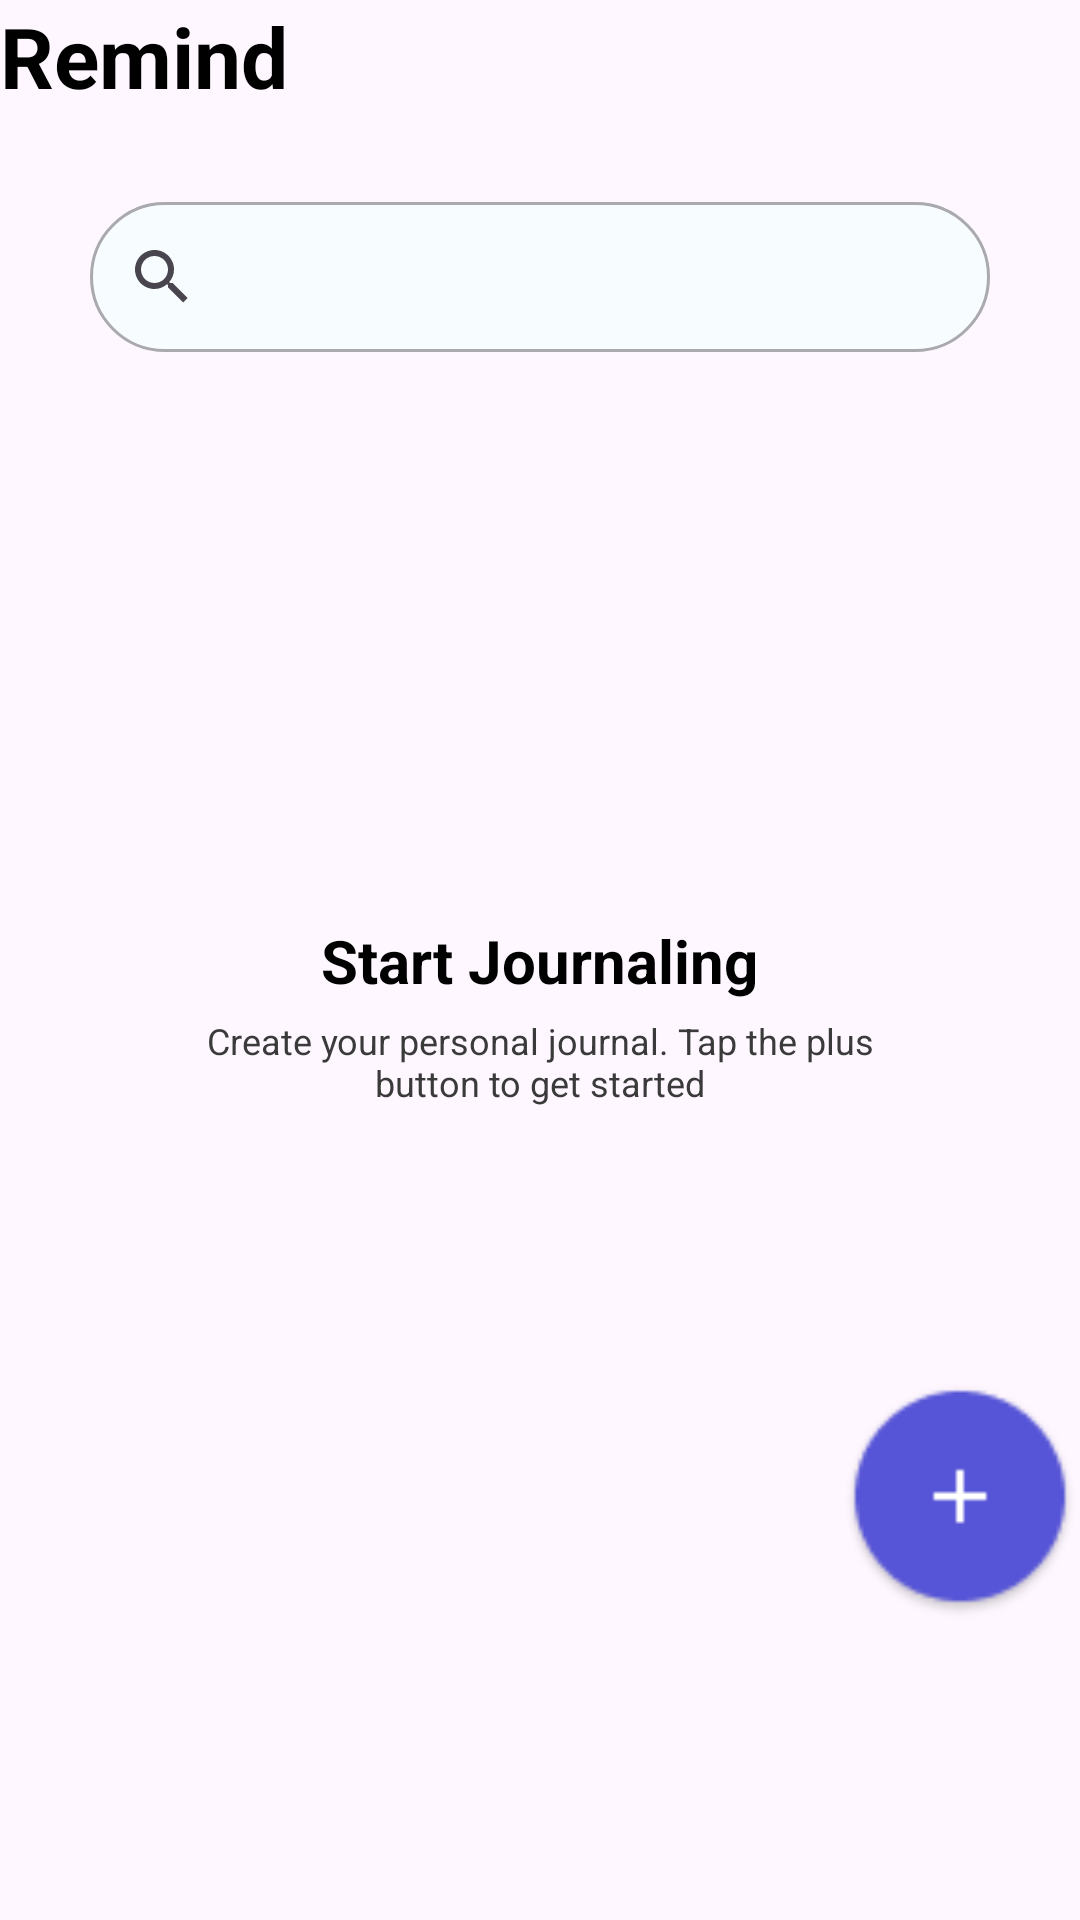

Icon bounding boxes for this 1080 × 1920 phone screenshot, format bbox=(x1, y1, x2, y2):
add journal: bbox=(853, 1390, 1067, 1608)
